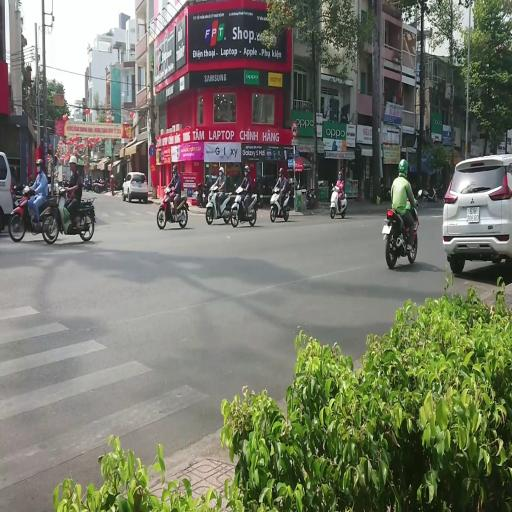bikes: (43, 183, 96, 243), (8, 183, 59, 243), (382, 194, 419, 268), (156, 186, 189, 229), (205, 184, 233, 224), (230, 186, 257, 227), (269, 185, 290, 222), (196, 176, 218, 207), (330, 183, 347, 219), (429, 165, 443, 197), (286, 177, 300, 207), (251, 177, 263, 208), (418, 187, 437, 202), (196, 182, 206, 207), (93, 177, 108, 193), (306, 187, 316, 209)
helmet: (398, 159, 408, 177), (69, 155, 77, 165), (64, 152, 70, 164), (35, 158, 43, 166), (23, 186, 30, 195), (244, 165, 250, 174), (278, 167, 284, 176), (218, 166, 224, 174), (172, 165, 178, 173), (164, 187, 170, 194), (288, 177, 294, 184), (338, 172, 342, 180), (110, 174, 114, 178)
